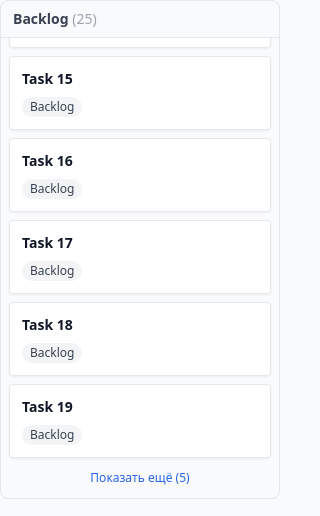
KanbanColumn › loads more tasks when "Показать ещё" clicked
The image size is (320, 516).
(page scrolled)
Click the button "Показать ещё (5)": (140, 478) [9,466,271,490]
(page scrolled)
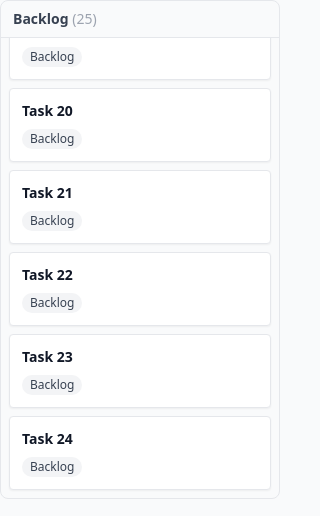
Expected: the button "Показать ещё" is gone
Expected: the text "Task 24" is shown, [22,429,73,448]
